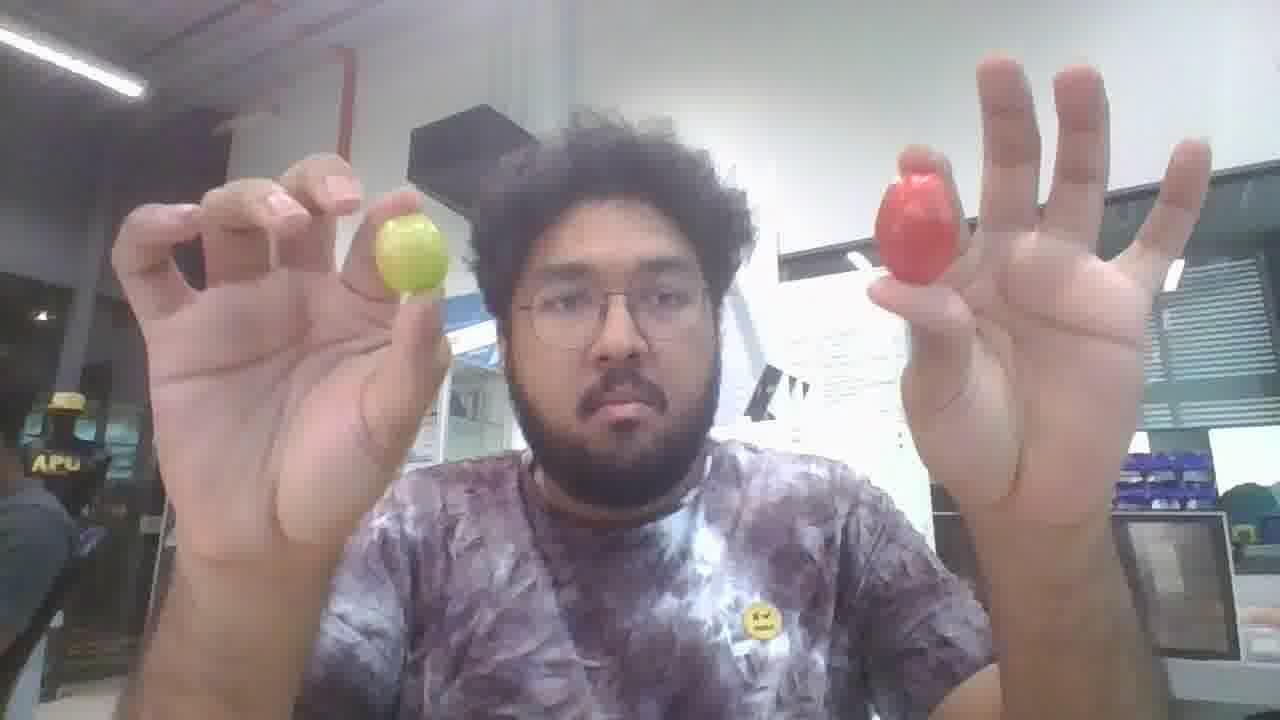green_cherry_tomato: (373, 213, 449, 295)
red_cherry_tomato: (874, 173, 958, 284)
